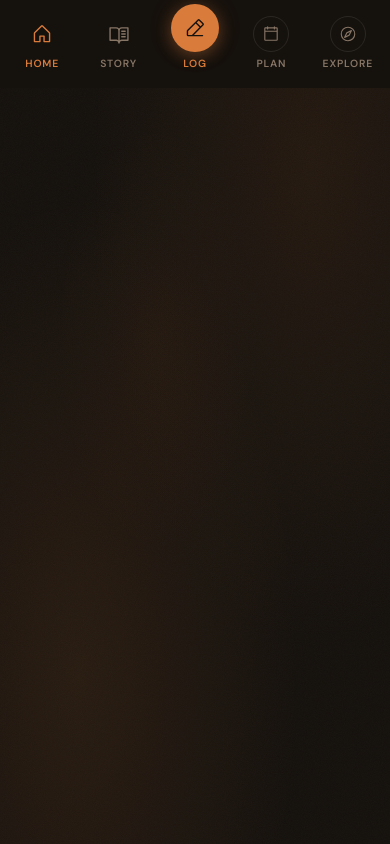
Scenario: MobileBottomNav › opens the Plan tray on tap and reflects aria-expanded
This screenshot has width=390, height=844.
Click the button with aria-label "Plan menu".
click(271, 44)  # box [233,8,310,80]
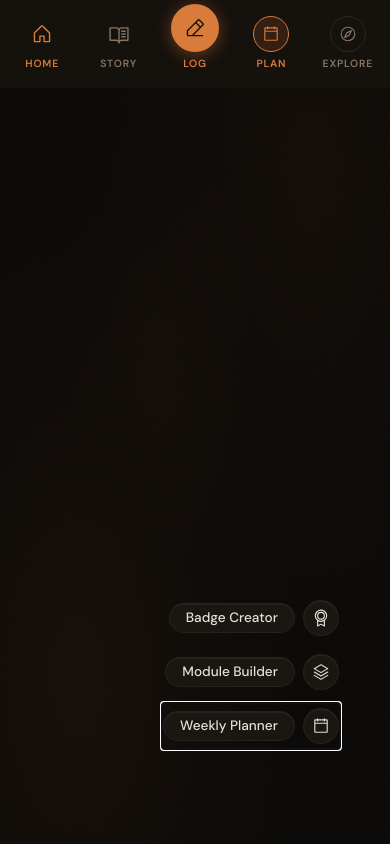
Now the button with aria-label "Plan menu" is expanded, box [233,8,310,80]
Now the menu is shown, box [163,596,339,748]
Now the number of menu items is 3, box [163,596,339,640]; [163,650,339,694]; [163,704,339,748]
